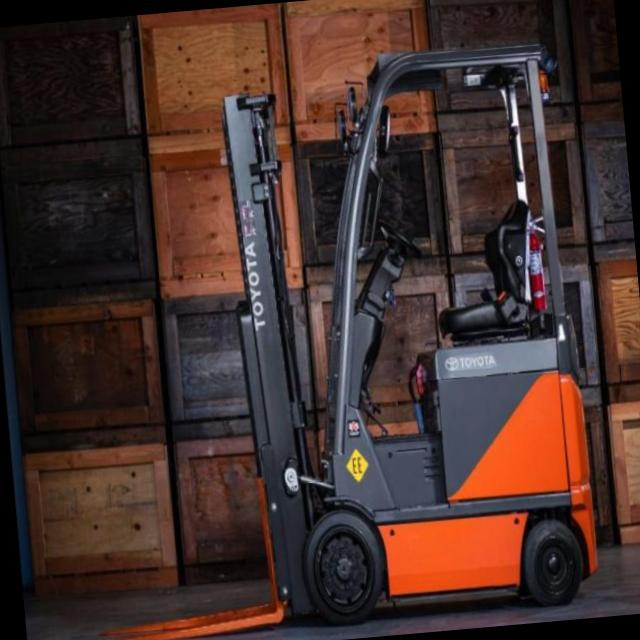forklift: (173, 13, 624, 640)
